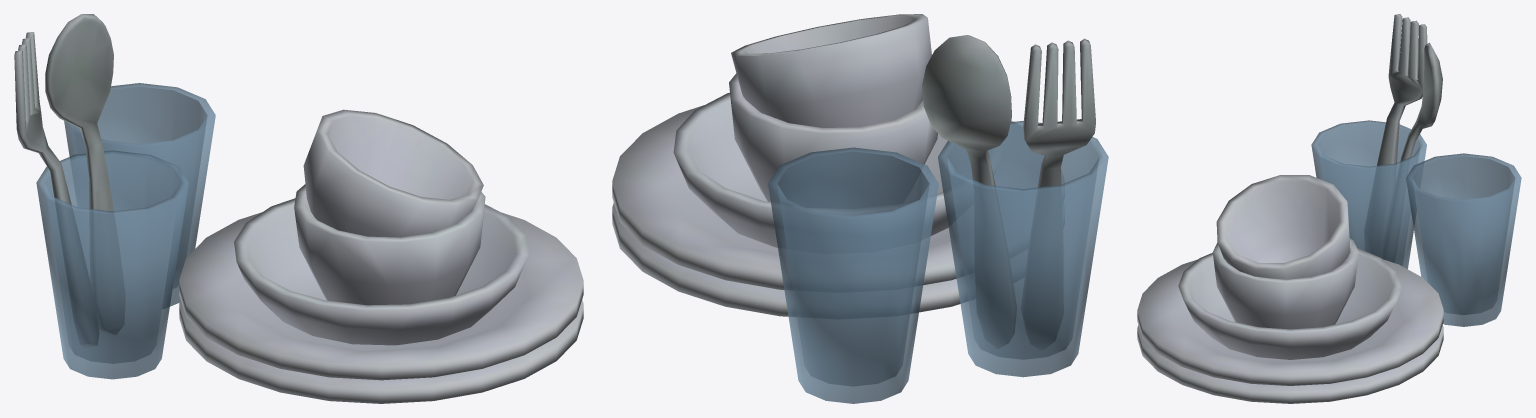
3 views of the same model, side by side, from view 1: azimuth 30°, elevation 25°; view 2: azimuth 150°, elevation 25°; view 3: azimuth 270°, elevation 25° (orthographic). The views are drawn at different scales.
Bounding box in the file's own units: 7.37 × 4.66 × 6.85.
Materials: 3 (2 with a texture image).
